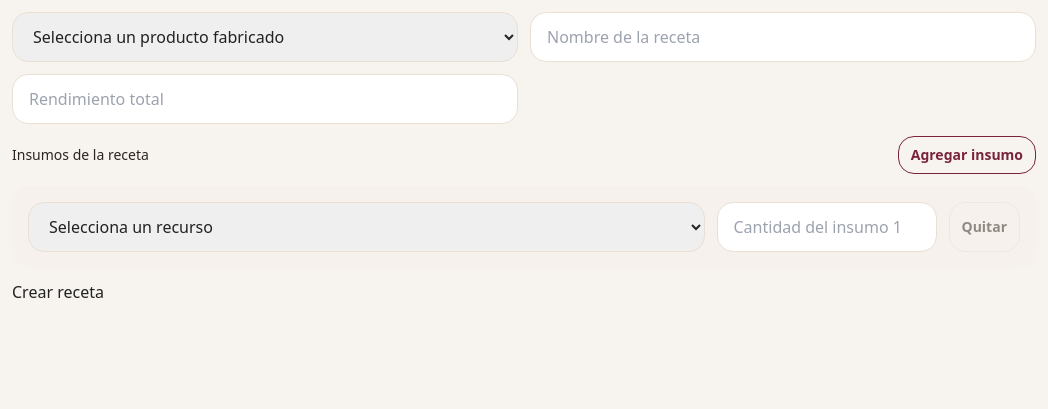
Test: RecipeForm › adds and removes multiple ingredient rows while keeping at least one
This screenshot has width=1048, height=409.
Step 1. Click the button "Agregar insumo" → click(967, 155), box x1=898 y1=136 x2=1036 y2=174
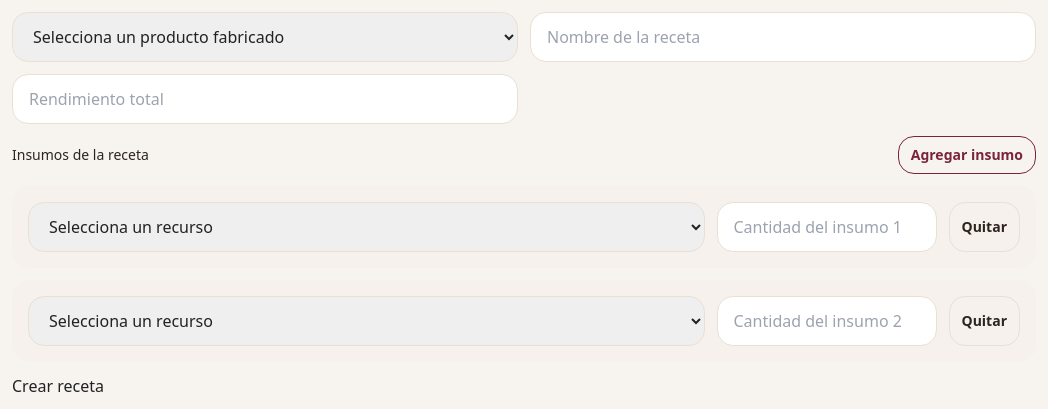
Step 2. Click the 2nd button "Quitar" → click(984, 321), box x1=948 y1=296 x2=1020 y2=346
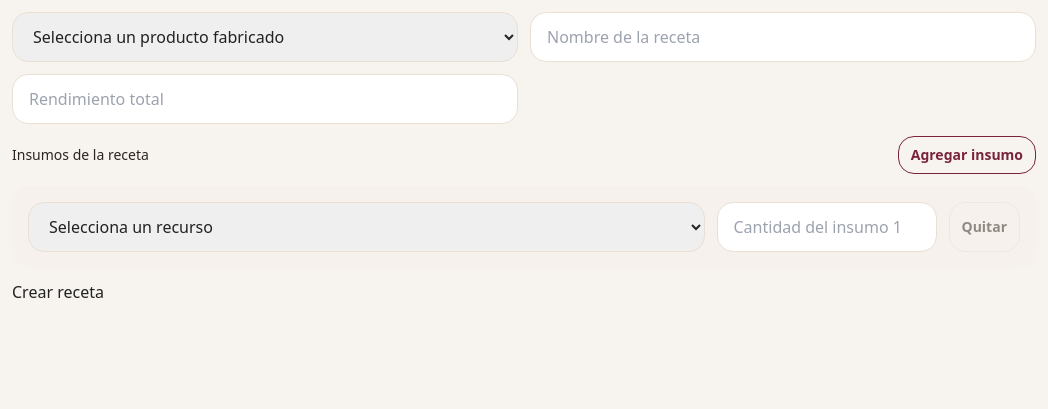
Expected: the button "Quitar" is disabled, x1=948 y1=202 x2=1020 y2=252
